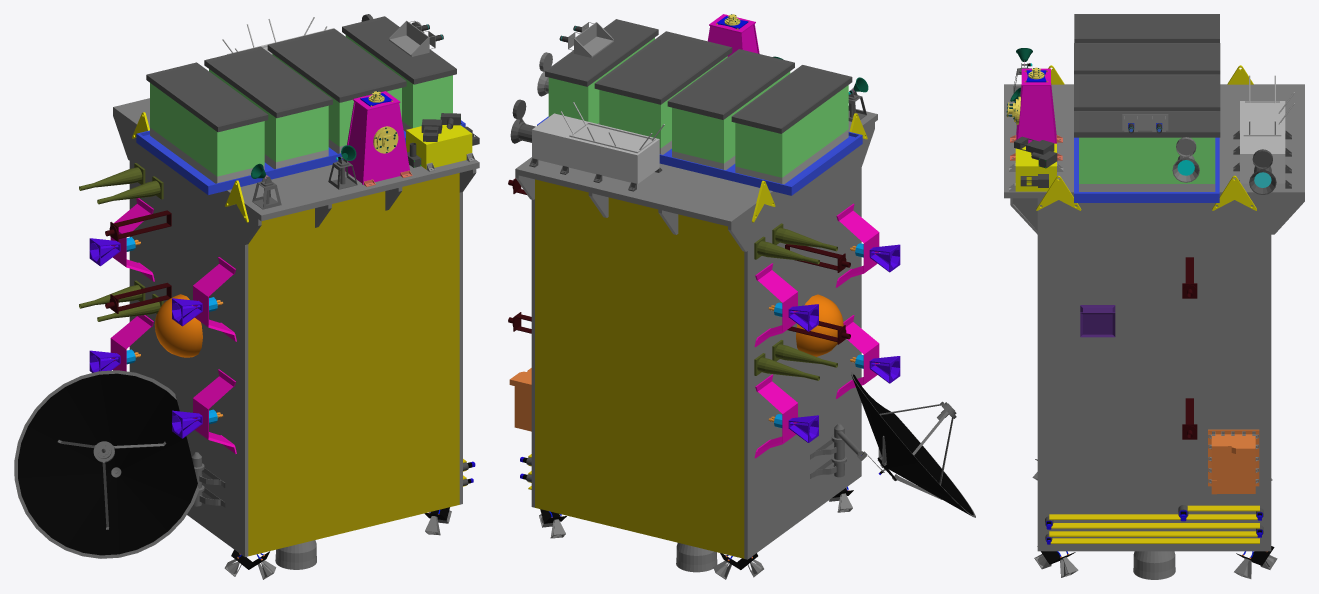
The model's file is Aditya L1 Sep.Phase.fbx.
3 renders of one model, left to right at view 1: azimuth 30°, elevation 25°; view 2: azimuth 150°, elevation 25°; view 3: azimuth 270°, elevation 25°, orthographic. The views are drawn at different scales.
Parts seen in each view (by area): view 1: Aditya L1; view 2: Aditya L1; view 3: Aditya L1.
Boxes of the visible parts, x1=… form: Aditya L1: x1=14, y1=14, x2=479, y2=579; Aditya L1: x1=508, y1=14, x2=975, y2=579; Aditya L1: x1=1004, y1=14, x2=1304, y2=579.
Bounding box in the file's own units: 466 × 508 × 269.
